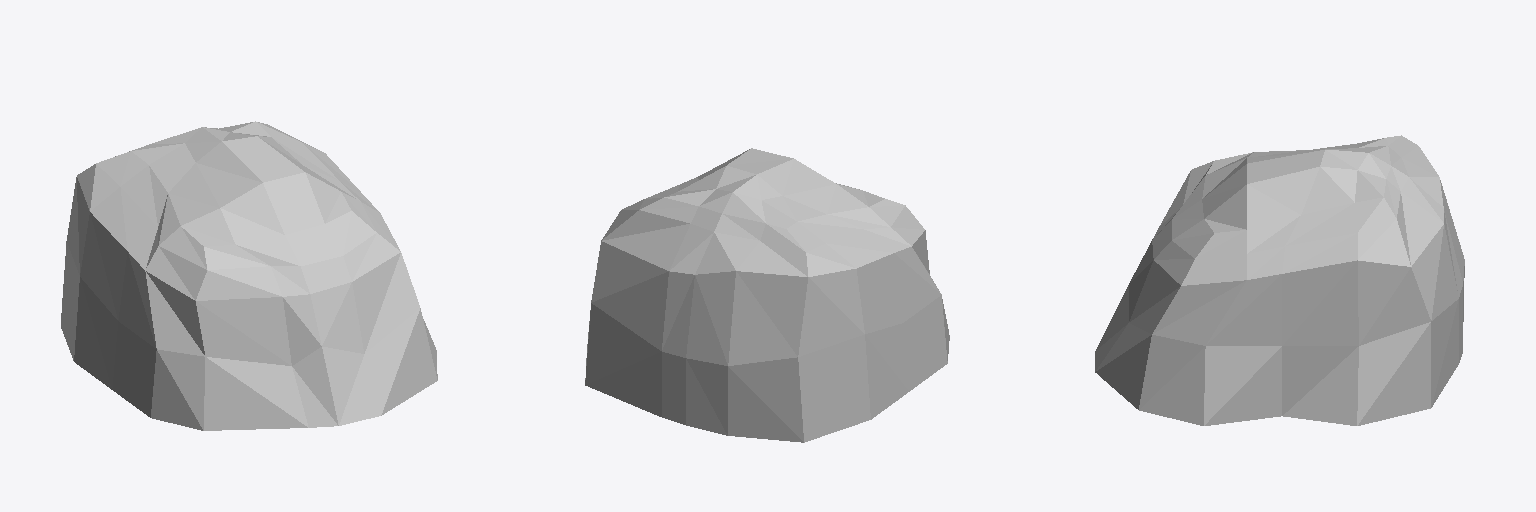
Rendered from Rock3.obj.
3 views of the same model, side by side, from view 1: azimuth 30°, elevation 25°; view 2: azimuth 150°, elevation 25°; view 3: azimuth 270°, elevation 25° (orthographic).
Visible parts, largest first — view 1: Group2; view 2: Group2; view 3: Group2.
Boxes of the visible parts, x1,y1,x2,y2 form: Group2: [61, 121, 437, 430]; Group2: [585, 148, 949, 442]; Group2: [1095, 135, 1464, 425].
Bounding box in the file's own units: 0.8996 × 0.6083 × 1.01.